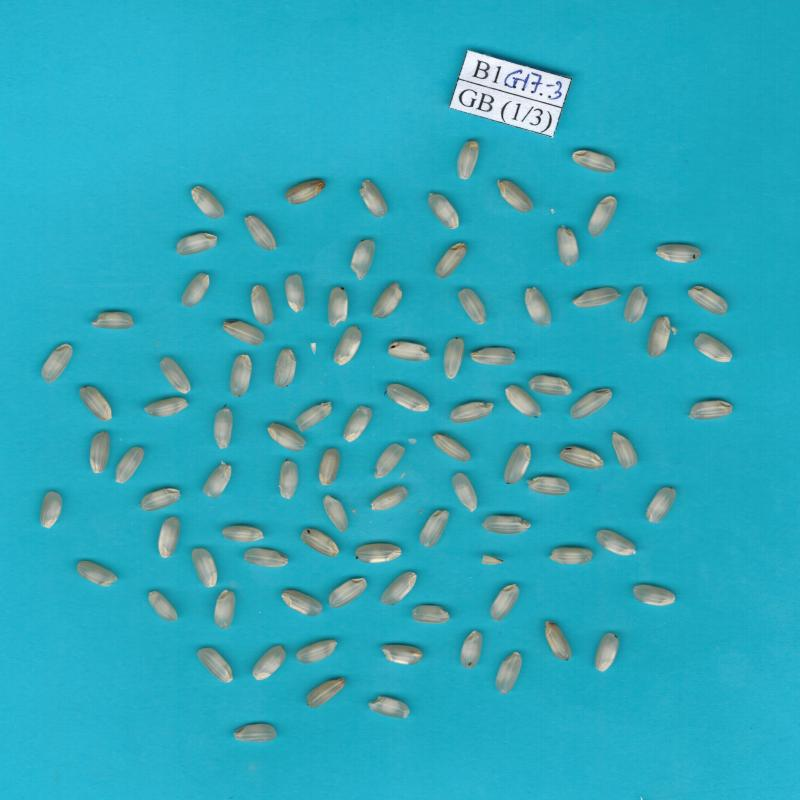Break: (295, 402, 332, 432), (202, 464, 231, 499), (612, 432, 638, 470), (413, 605, 450, 623)
Rice: (570, 389, 612, 419), (198, 648, 233, 683), (381, 571, 417, 605), (41, 344, 73, 382), (252, 645, 286, 680), (588, 196, 617, 237), (306, 678, 345, 708), (497, 180, 533, 212), (505, 385, 541, 417), (160, 357, 191, 394), (329, 578, 367, 608), (387, 384, 429, 411), (689, 286, 728, 315), (694, 333, 733, 362), (333, 326, 362, 365), (80, 386, 112, 421), (245, 215, 276, 251), (419, 510, 449, 547), (267, 423, 306, 451), (496, 652, 522, 694), (191, 186, 224, 219), (435, 243, 466, 278), (504, 444, 531, 484), (646, 487, 676, 523), (282, 590, 323, 616), (77, 561, 118, 587), (301, 529, 339, 557), (432, 434, 470, 462), (429, 193, 458, 229), (373, 283, 402, 319), (359, 180, 387, 217), (491, 584, 519, 621), (559, 446, 604, 469), (376, 443, 405, 478), (191, 549, 217, 588), (572, 150, 616, 173), (222, 321, 264, 345), (116, 447, 144, 483), (458, 288, 485, 325), (525, 288, 551, 326), (573, 287, 620, 308), (296, 640, 337, 664), (344, 406, 371, 442), (286, 180, 326, 204), (351, 240, 375, 280), (140, 488, 180, 512), (597, 530, 635, 555), (546, 622, 571, 660), (230, 354, 252, 397), (453, 473, 477, 512), (323, 495, 348, 532), (176, 233, 218, 255), (450, 402, 492, 424), (633, 584, 675, 606), (182, 273, 209, 307), (595, 633, 619, 671), (529, 375, 572, 396), (148, 591, 177, 622), (371, 486, 408, 510), (368, 697, 410, 718), (648, 317, 670, 357), (158, 517, 180, 557), (355, 544, 401, 563), (482, 516, 530, 534), (690, 400, 733, 420), (251, 286, 273, 325), (274, 348, 296, 387), (656, 244, 701, 263), (144, 398, 189, 417), (625, 286, 648, 323), (381, 645, 423, 665), (460, 631, 482, 669), (244, 548, 288, 567), (214, 590, 235, 629), (40, 492, 62, 529), (558, 228, 579, 266), (388, 342, 430, 361), (458, 140, 478, 179), (328, 287, 348, 326), (445, 338, 464, 379), (90, 432, 109, 473), (549, 547, 594, 564), (285, 274, 305, 312), (213, 408, 232, 448), (528, 477, 570, 495), (234, 724, 276, 742), (471, 348, 515, 365), (319, 449, 339, 485), (280, 460, 298, 499), (92, 312, 133, 329), (222, 526, 264, 542)
